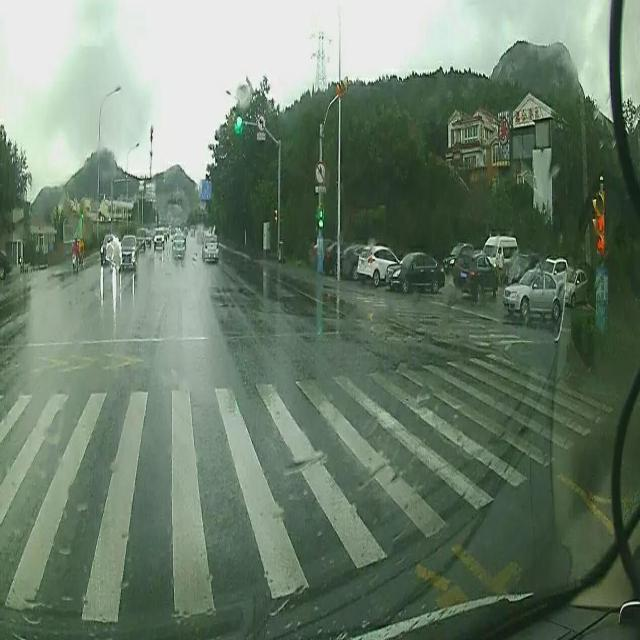car: (504, 270, 568, 322), (448, 251, 498, 297), (384, 252, 446, 288), (358, 244, 404, 284), (341, 245, 371, 275), (119, 230, 138, 274), (322, 240, 350, 268), (200, 232, 220, 262), (171, 227, 185, 259), (153, 223, 165, 252), (136, 226, 146, 252)
